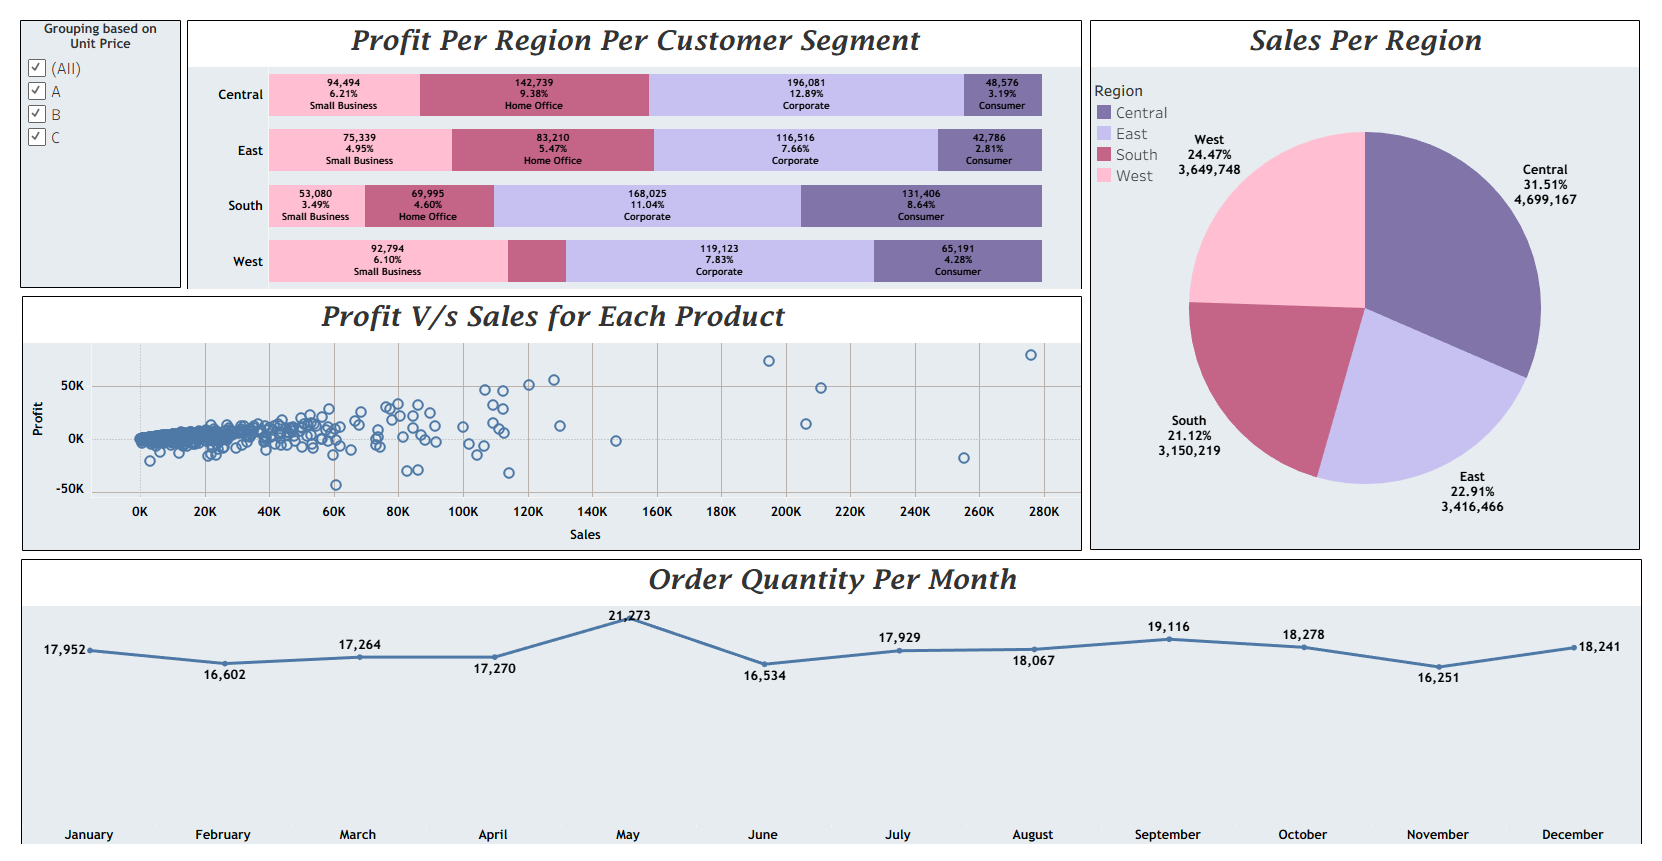

What the dashboard file says about the page in this screenshot:
{"tool":"tableau","page":{"name":"Dashboard 1","canvas":[1000,1000],"units":"permille","ordinal":0},"visuals":[{"type":"filter","title":"Line Chart","param":"[federated.0yb4ysy0b6zqwj12ow4nn18yazef].[none:Calculation_993606695037878274:nk","box":[8.5,20.4,97.5,312.1]},{"type":"worksheet","title":"100% Stacked Bar Chart","mark":"Automatic","rows":["Region"],"box":[109.7,20.4,542.4,313.4]},{"type":"worksheet","title":"Pie Chart","mark":"Pie","box":[656.9,20.4,333.3,616.6]},{"type":"legend","title":"Pie Chart","param":"[federated.0yb4ysy0b6zqwj12ow4nn18yazef].[none:Region:nk]","box":[659.4,90.5,60.3,135]},{"type":"worksheet","title":"Scatter Plot","mark":"Automatic","rows":["Profit"],"cols":["Sales"],"box":[9.8,341.4,642.3,296.8]},{"type":"worksheet","title":"Line Chart","mark":"Automatic","rows":["Order Quantity"],"cols":["Order Date"],"box":[9.1,647.1,982.3,332.5]}]}

Visuals, with their boxes on the dashboard's canvas, which has no fixed pixel size, in thousandths of its width and height (x1, y1, x2, y2). These are canvas units, not pixel positions in the 1662x861 screenshot, which may show the page scaled, cropped or inside an application window:
"Line Chart" filter: box(8, 20, 106, 332)
"100% Stacked Bar Chart" worksheet: box(110, 20, 652, 334)
"Pie Chart" worksheet (Pie marks): box(657, 20, 990, 637)
"Pie Chart" legend: box(659, 90, 720, 226)
"Scatter Plot" worksheet: box(10, 341, 652, 638)
"Line Chart" worksheet: box(9, 647, 991, 980)
